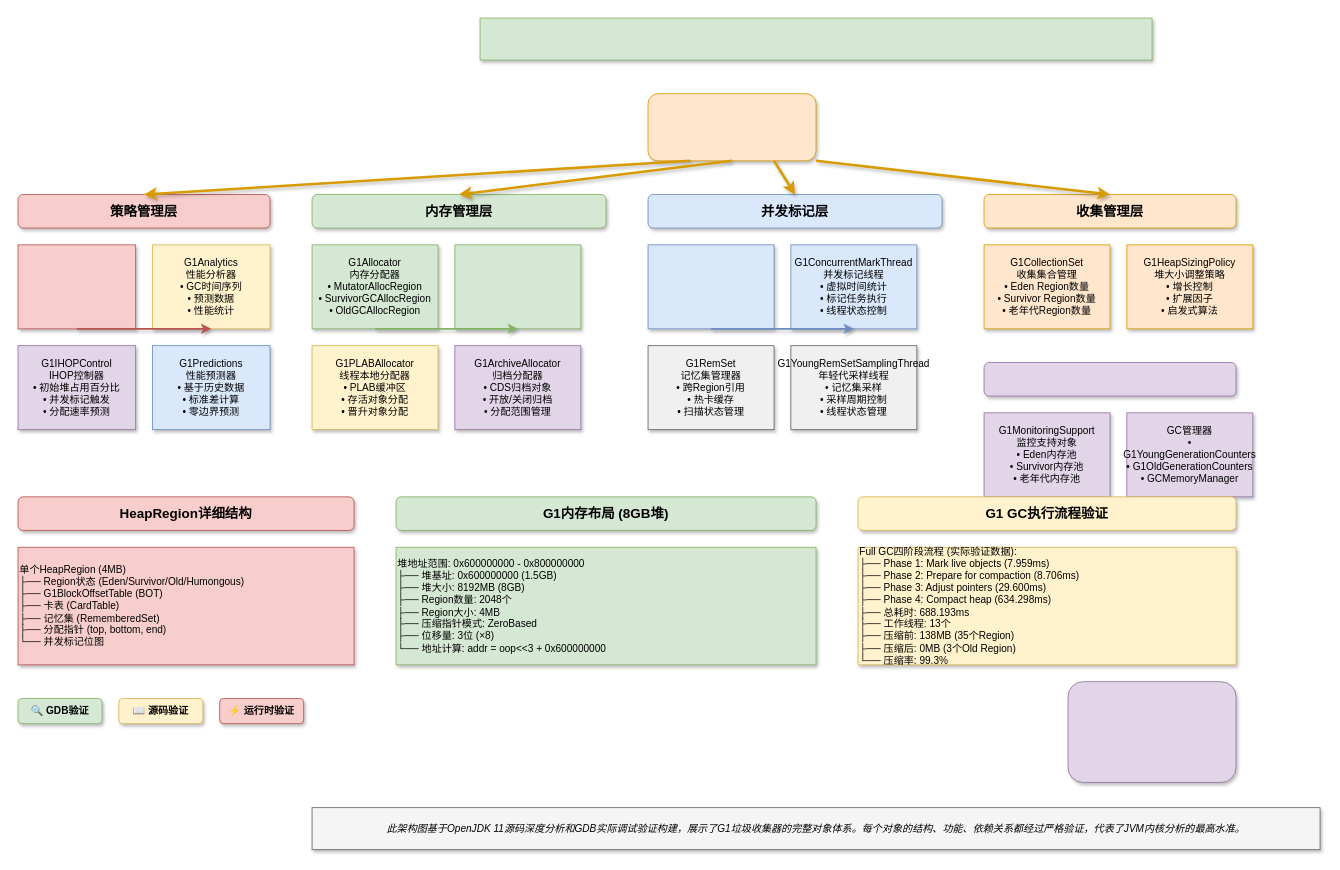
Image size: 1340x870. Some labels were removed from this diagram. The centre of each missing label's shape, as x and y in pixels:
G1CollectedHeap 地址: 0x7ffff0031e60 大小: ~2KB 位置: JVM元数据区: pixel 732 128
G1ConcurrentMark 并发标记管理器 • 双缓冲标记位图 • 任务队列集合 • 标记任务数组: pixel 711 288
G1Policy GC策略控制器 • 暂停时间目标: 200ms • 年轻代目标长度 • 堆大小调整策略: pixel 77 288
G1垃圾收集器完整对象架构图 - 基于OpenJDK 11源码和GDB验证: pixel 816 40
HeapRegionManager Region管理器 • 2048个Region • 每个4MB • 空间映射器: pixel 518 288
监控支持层: pixel 1110 380
验证统计数据 • 核心对象类: 15个 • 验证方法: 3种 • 源码文件: 50+个 • GDB断点: 10+个 • 内存占用: ~300MB: pixel 1152 732
